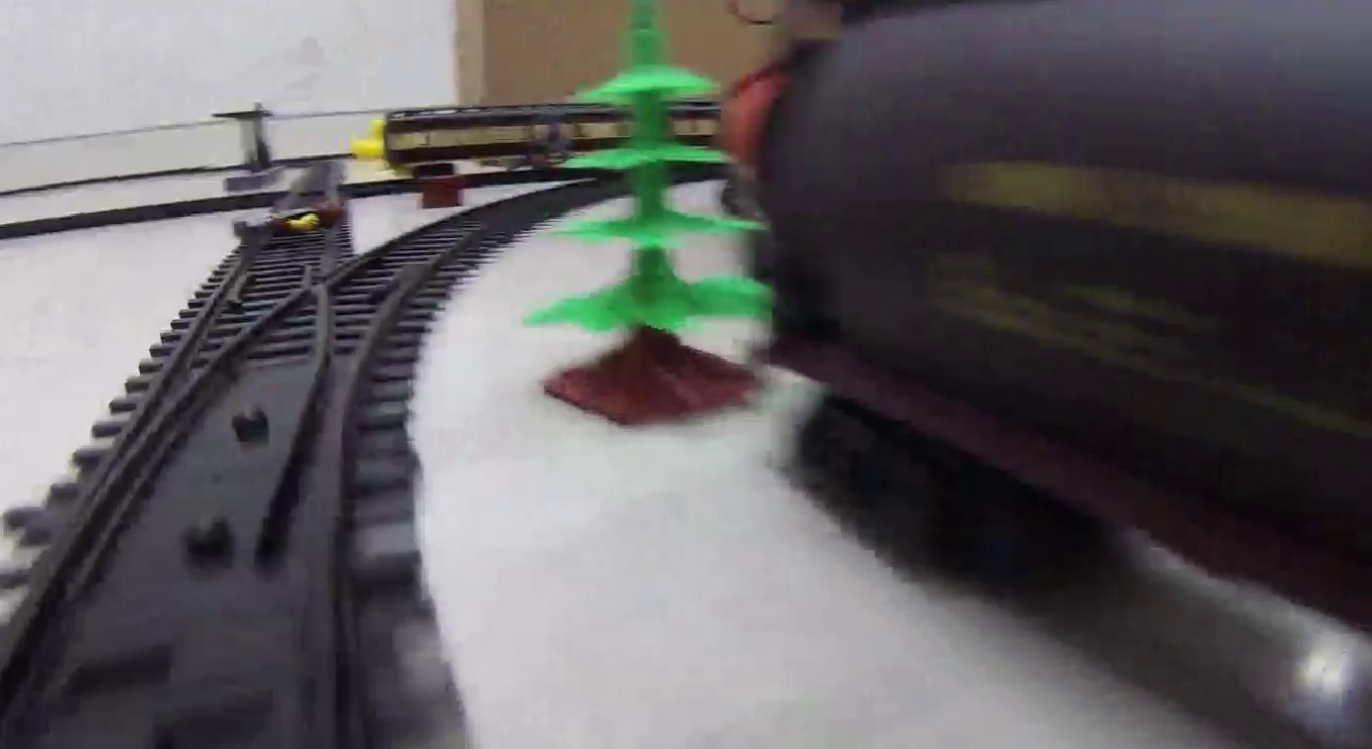tree: (528, 6, 764, 424)
